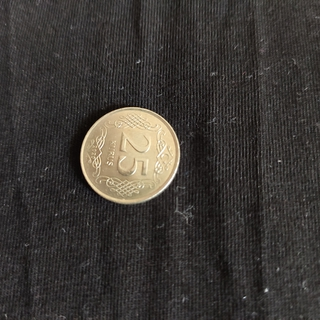25KURUS: (78, 105, 181, 205)
